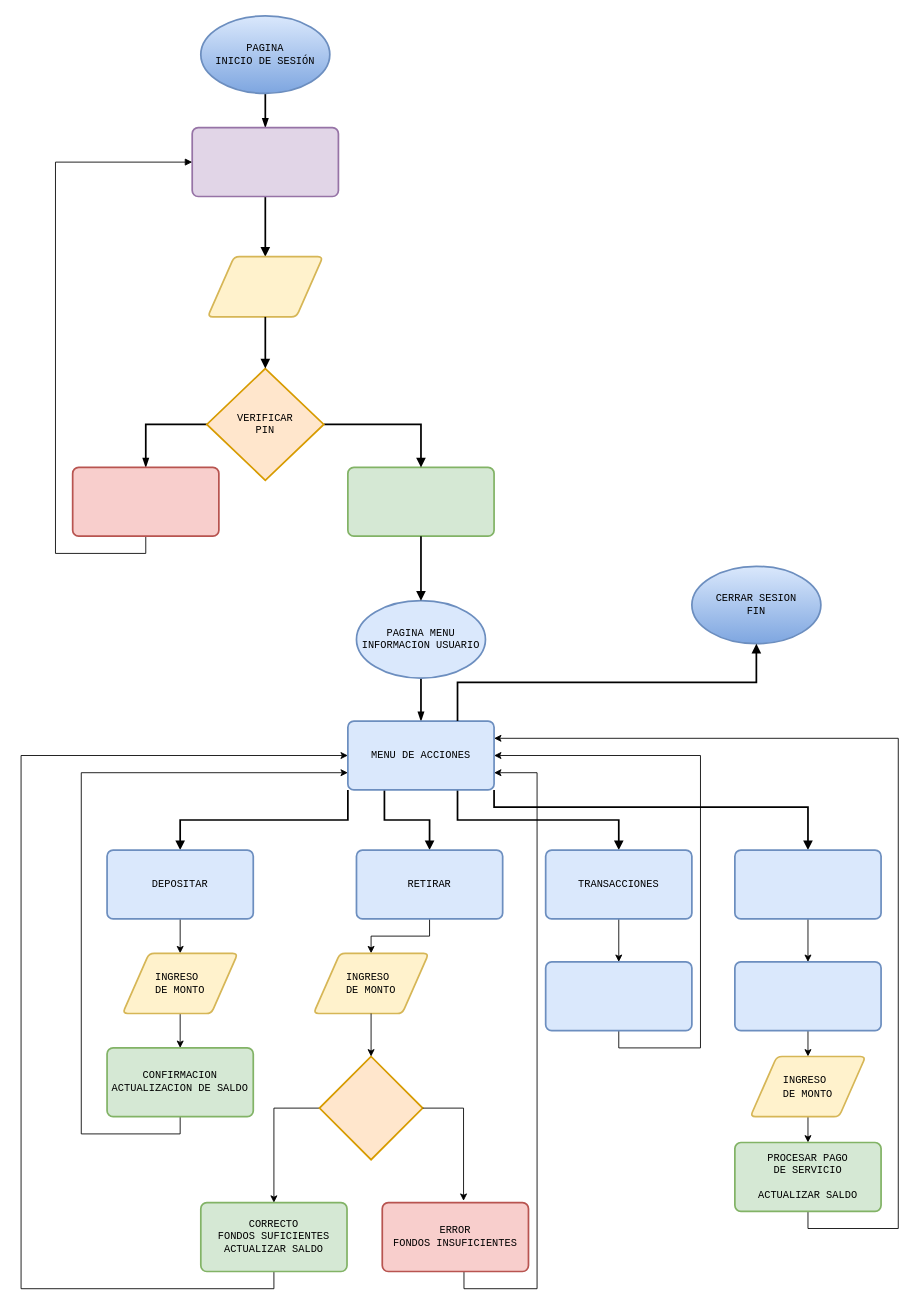
Some shapes in this 920 by 1311 pixel diagram are drawn without their labels. Each missing label, with the box of its shape:
ELEGIR SERVICIO: (734, 961, 882, 1031)
INTRODUCCION DE PIN: (191, 126, 339, 197)
MOSTRAR HISTORIAL DE TRANSACCIONES: (544, 961, 692, 1031)
PAGOS DE SERVICIO: (734, 849, 882, 919)
PIN CORRECTO: (347, 466, 494, 537)
PIN DE USUARIO: (206, 255, 323, 317)
PIN INCORRECTO "ERROR": (71, 466, 219, 537)
VERIFICAR FONDOS: (318, 1055, 423, 1160)
